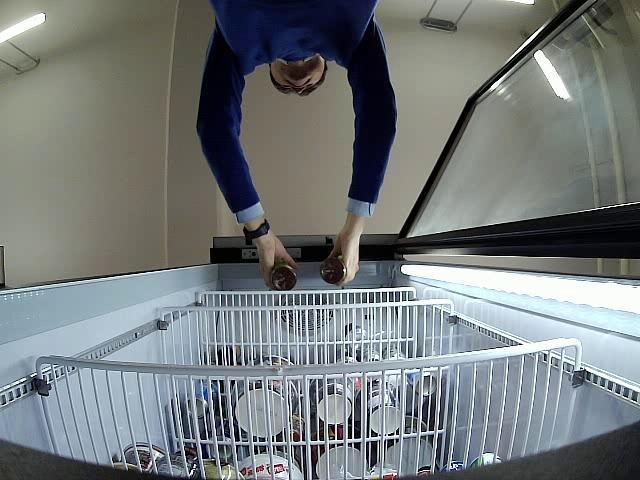19_17cha: (272, 259, 298, 290), (321, 256, 346, 282)
